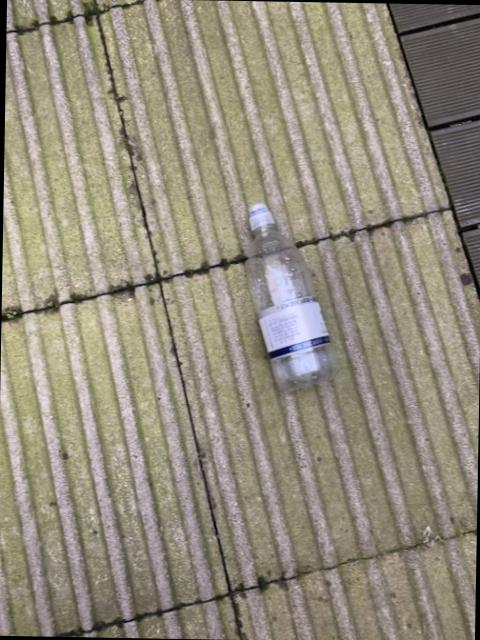plastic: (248, 201, 336, 389)
